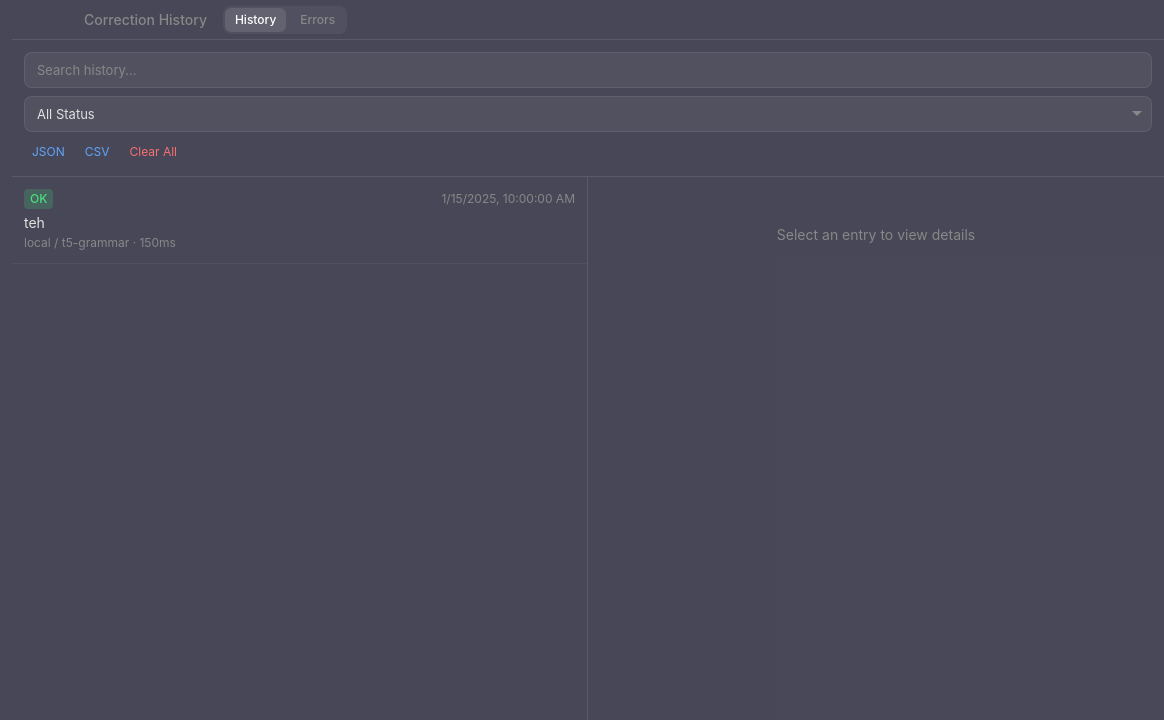
Test: History › "Show Diff" toggle renders DiffView
Note: Select entry
Click the text "teh" at (34, 222), box [24,214,45,231]
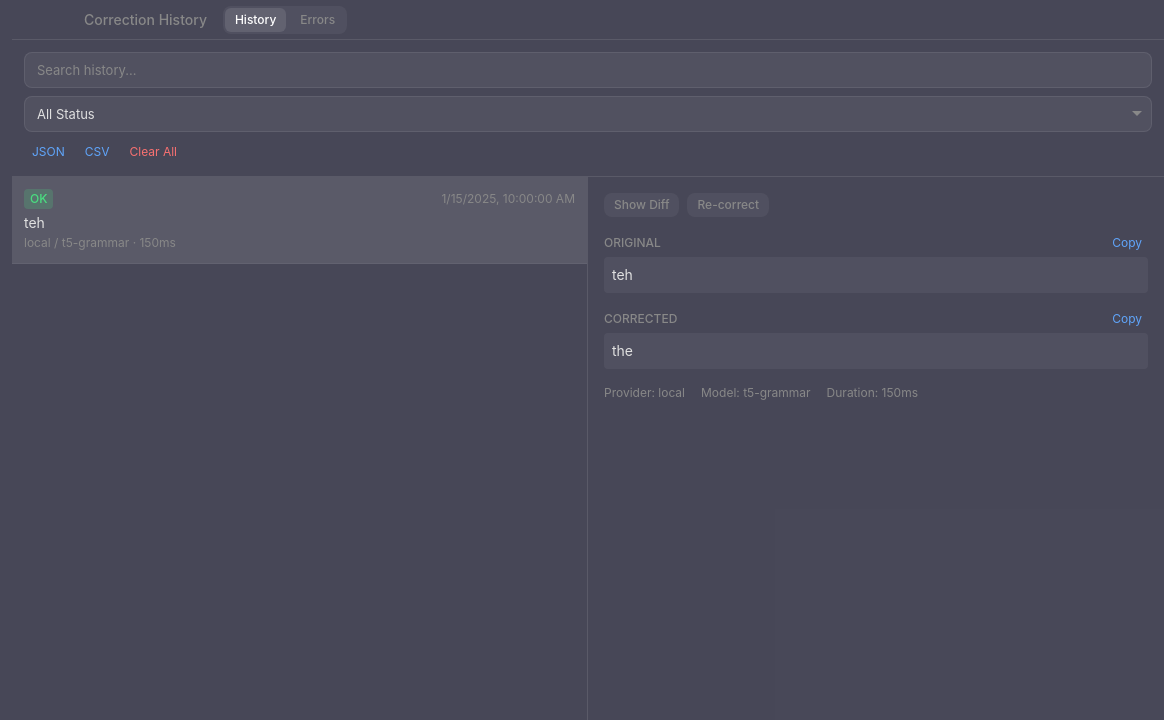
expect the button "Show Diff" is shown: met
Note: Toggle diff
Click the button "Show Diff" at (642, 205), box [604,193,680,217]
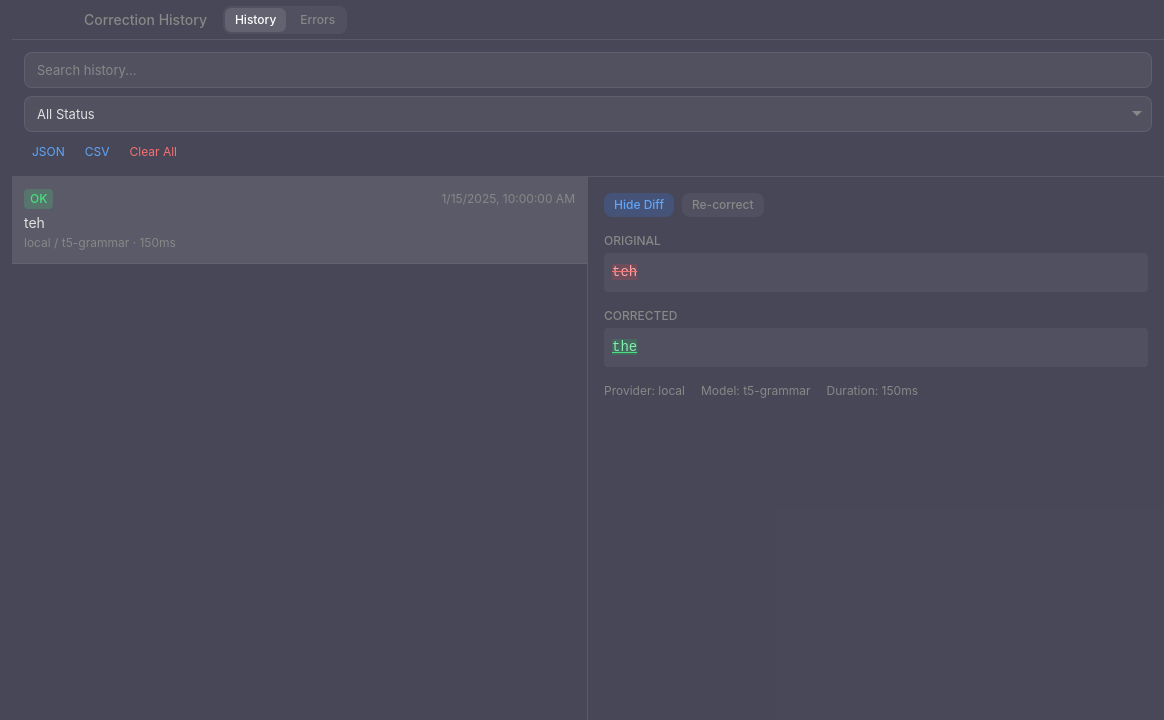
expect the button "Hide Diff" is shown: met, box [604,193,674,217]
